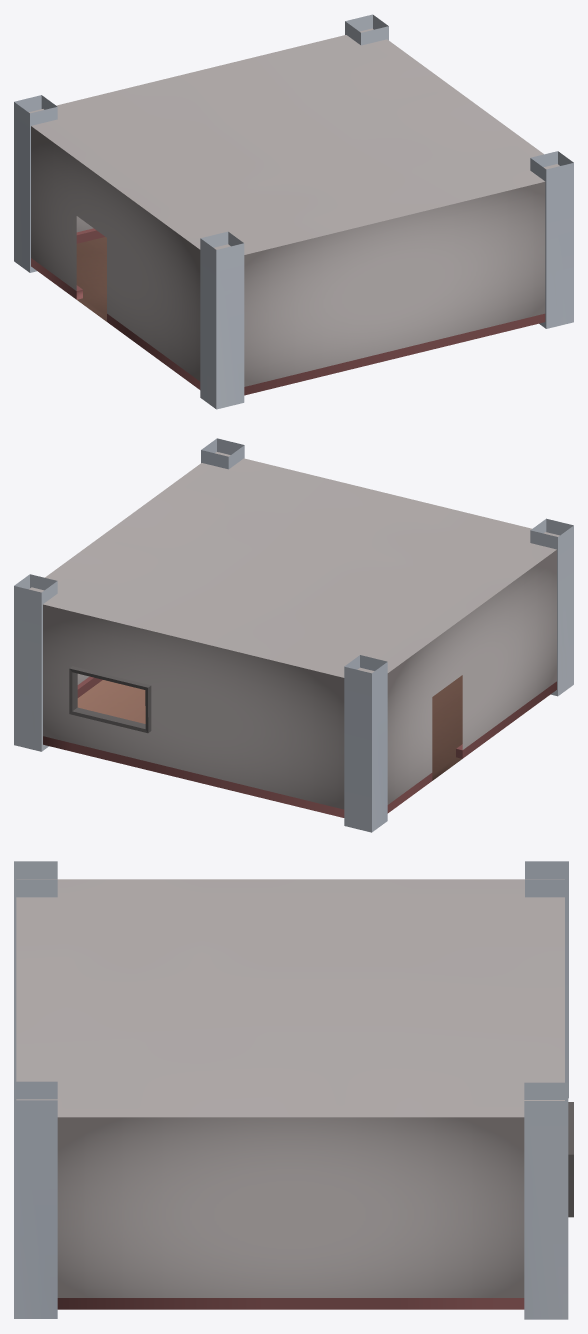
Rendered from MainRoom.fbx.
The picture shows the model from 3 angles, top to bottom: view 1: azimuth 30°, elevation 25°; view 2: azimuth 150°, elevation 25°; view 3: azimuth 270°, elevation 25°; orthographic projection. The views are drawn at different scales.
Visible parts, largest first — view 1: MainRoom; view 2: MainRoom, Janela; view 3: MainRoom, Janela.
Boxes of the visible parts, x1=… form: MainRoom: x1=14, y1=14, x2=573, y2=409; MainRoom: x1=14, y1=438, x2=573, y2=832; Janela: x1=69, y1=666, x2=151, y2=733; MainRoom: x1=14, y1=861, x2=568, y2=1319; Janela: x1=568, y1=1102, x2=573, y2=1217.
Bounding box in the file's own units: 772 × 328 × 762.
